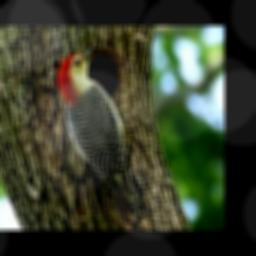Woodpecker: (57, 46, 155, 225)
